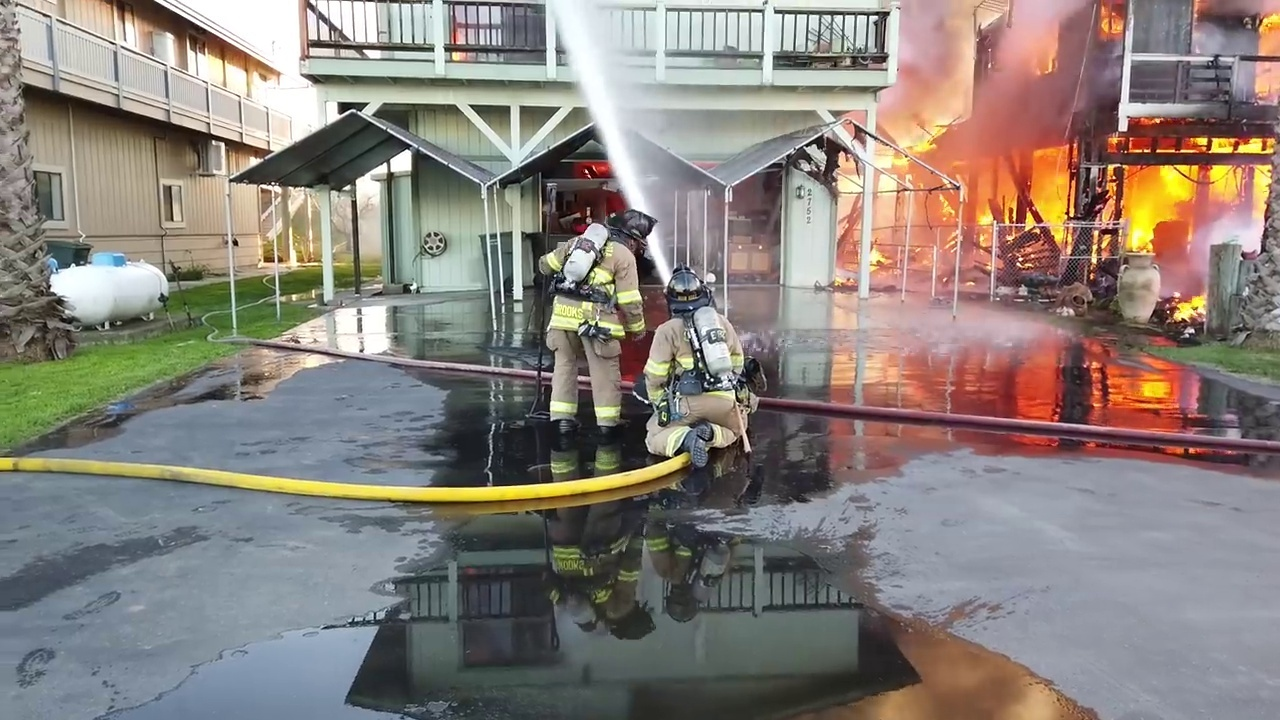fire: (1109, 136, 1269, 257), (965, 141, 1076, 223), (896, 119, 950, 172), (927, 189, 964, 257), (1254, 1, 1280, 95), (1158, 292, 1213, 333), (1091, 1, 1129, 47), (847, 238, 893, 276), (1030, 43, 1065, 78), (975, 230, 992, 251)
smoke: (877, 1, 1096, 142)
